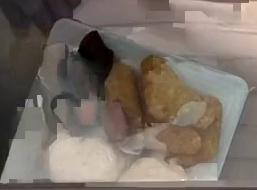hash: (141, 55, 204, 122), (105, 63, 142, 127)
